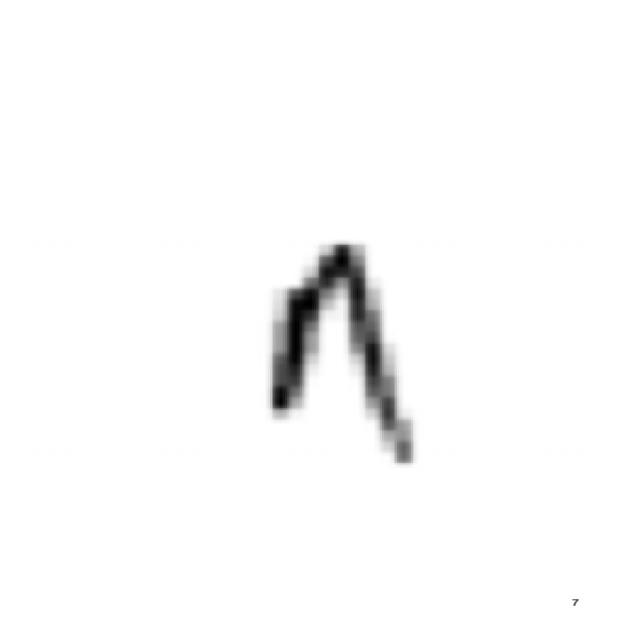8 -eight-: (236, 222, 439, 474)
